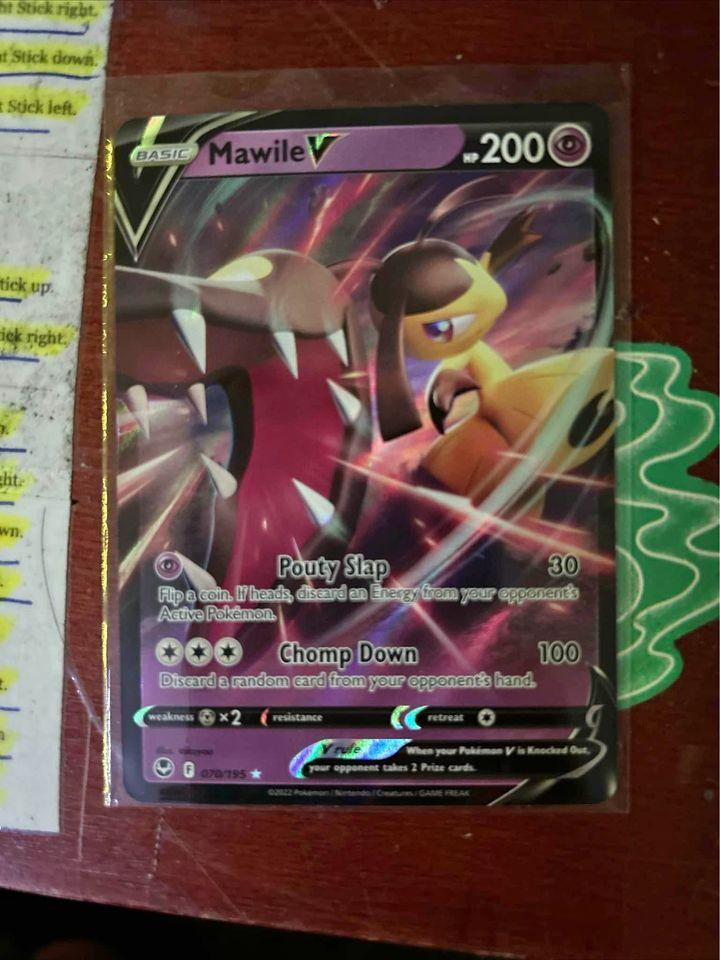card: (110, 101, 621, 805)
name: (204, 135, 353, 173)
set num: (196, 764, 247, 782)
set symbol: (151, 756, 178, 781)
